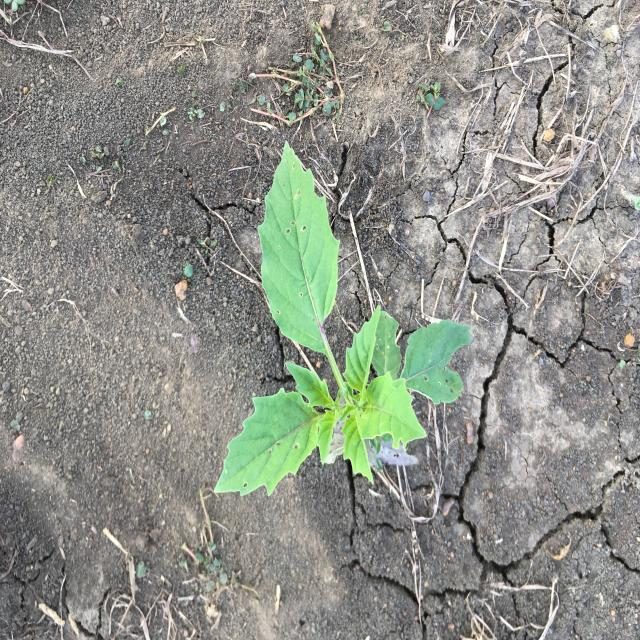CutleafGroundcherry: (212, 139, 473, 499)
SpottedSpurge: (255, 27, 347, 133), (422, 79, 446, 118)
